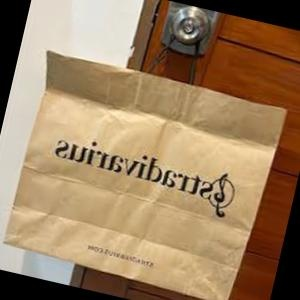stradivarius: (233, 116, 275, 232)
